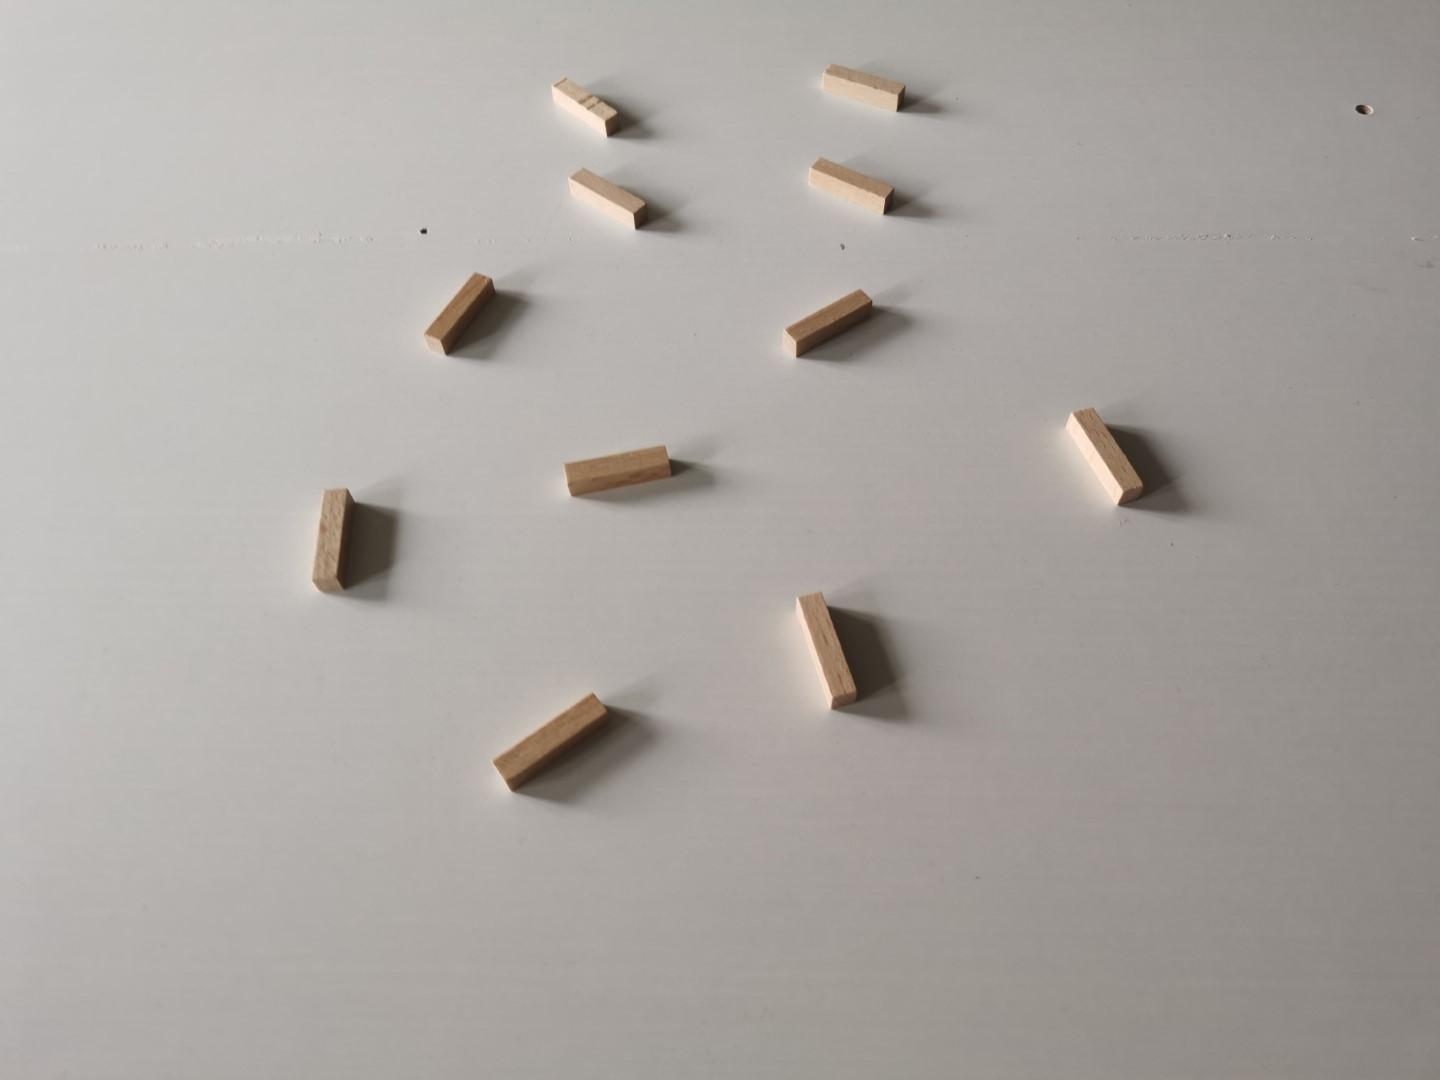jenga: (493, 694, 608, 791), (1068, 407, 1145, 504), (797, 592, 858, 709), (785, 288, 873, 355), (424, 272, 493, 354), (565, 445, 670, 496), (568, 166, 649, 227), (810, 157, 893, 212), (311, 488, 353, 591), (552, 75, 619, 134), (822, 62, 906, 109)
